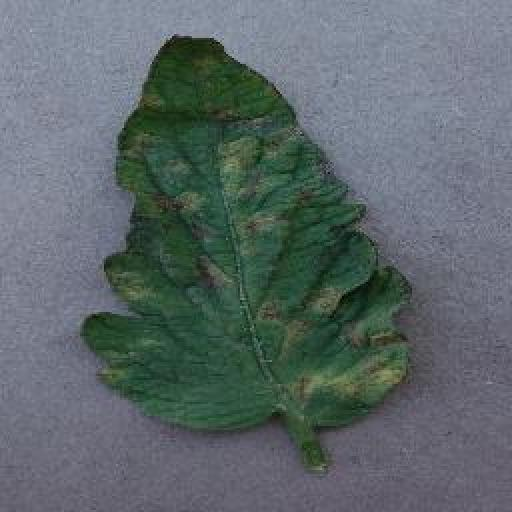Leaf Mold: (84, 33, 411, 436)
